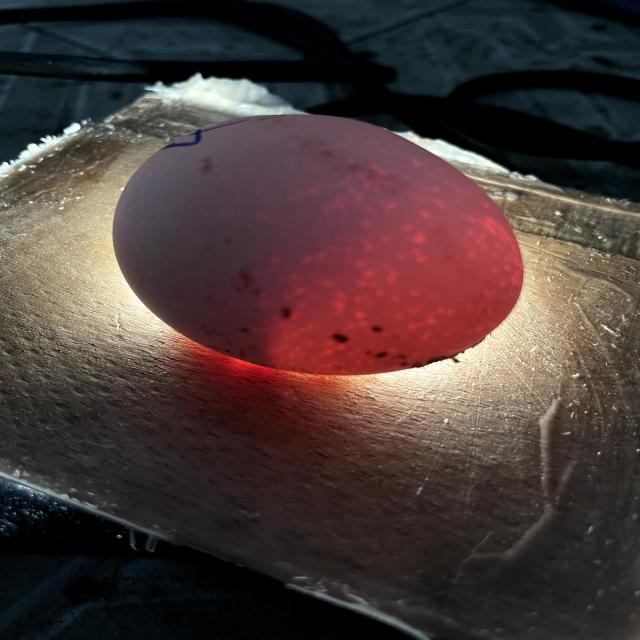fertile: (113, 115, 523, 375)
